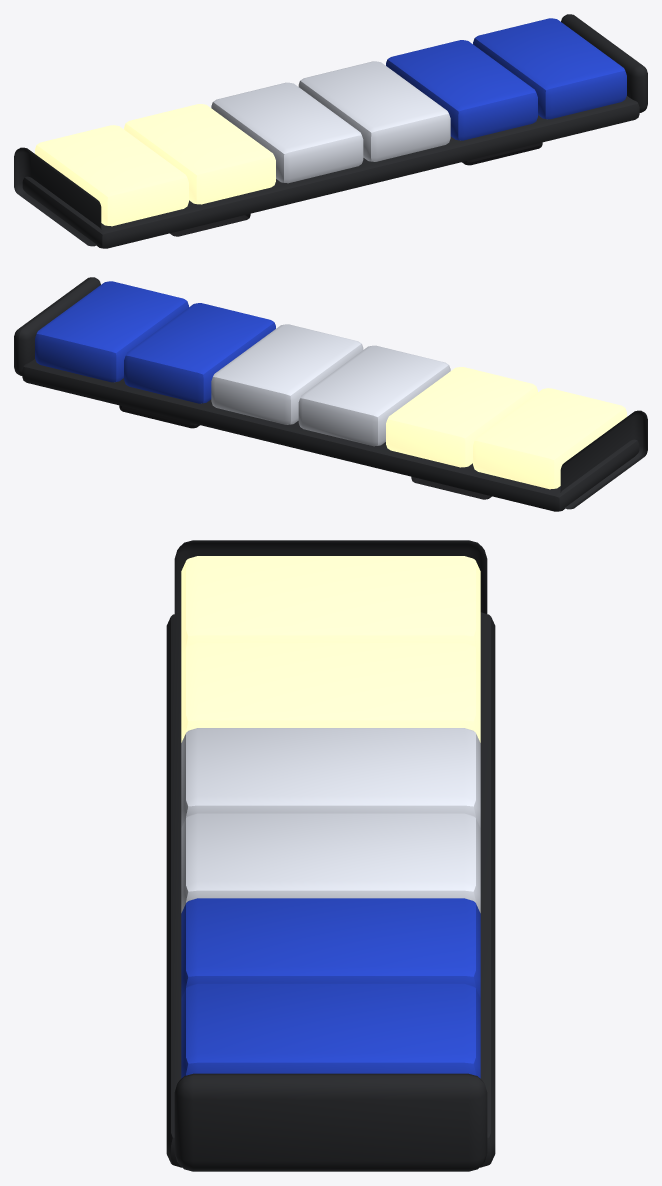
Rendered from light_bar.fbx.
The picture shows the model from 3 angles, top to bottom: view 1: azimuth 30°, elevation 25°; view 2: azimuth 150°, elevation 25°; view 3: azimuth 270°, elevation 25°; orthographic projection. The views are drawn at different scales.
Parts seen in each view (by area): view 1: em_red_1, em_blue_1, barwhite_1, dark_1, dark_2, dark_3; view 2: em_red_1, em_blue_1, barwhite_1, dark_1, dark_2, dark_3; view 3: em_blue_1, em_red_1, barwhite_1, dark_2, dark_1.
Part boxes in pixels (left/top/right/bottom): em_red_1: left=35, top=104, right=275, bottom=226; em_blue_1: left=386, top=18, right=626, bottom=140; barwhite_1: left=211, top=61, right=450, bottom=183; dark_1: left=22, top=96, right=639, bottom=248; dark_2: left=14, top=14, right=647, bottom=246; dark_3: left=170, top=142, right=542, bottom=236; em_red_1: left=386, top=367, right=626, bottom=489; em_blue_1: left=35, top=281, right=275, bottom=403; barwhite_1: left=211, top=324, right=450, bottom=446; dark_1: left=22, top=359, right=639, bottom=511; dark_2: left=14, top=277, right=647, bottom=509; dark_3: left=119, top=405, right=491, bottom=499; em_blue_1: left=181, top=898, right=480, bottom=1078; em_red_1: left=181, top=556, right=480, bottom=742; barwhite_1: left=181, top=728, right=480, bottom=912; dark_2: left=174, top=540, right=487, bottom=1171; dark_1: left=166, top=612, right=495, bottom=1167.
Bounding box in the file's own units: 0.1291 × 0.0151 × 0.0327.
